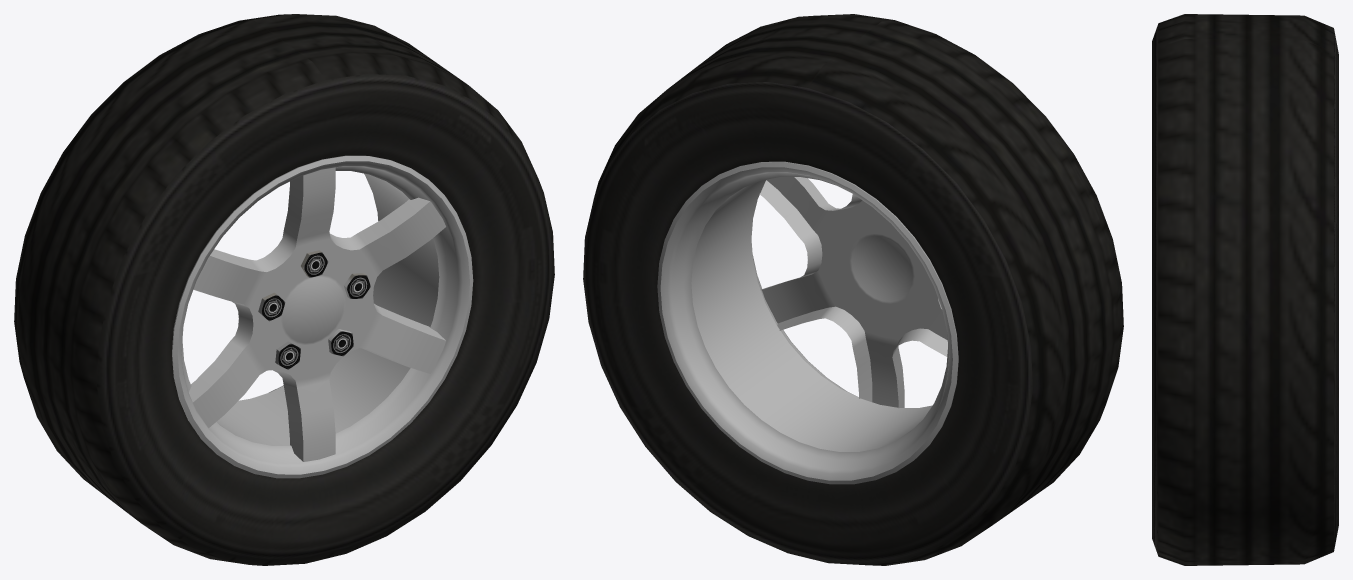
3 renders of one model, left to right at view 1: azimuth 30°, elevation 25°; view 2: azimuth 150°, elevation 25°; view 3: azimuth 270°, elevation 25°, orthographic.
Parts seen in each view (by area): view 1: U843_9A_901C_R_U843_9A_901C_R_2_DM, U843_9A_901C_R_1_DaS_U843_9A_901C_R, U843_9A_901C_R_U843_9A_901C_R_3_D; view 2: U843_9A_901C_R_U843_9A_901C_R_2_DM, U843_9A_901C_R_1_DaS_U843_9A_901C_R; view 3: U843_9A_901C_R_U843_9A_901C_R_2_DM.
Part boxes in pixels (left/top/right/bottom): U843_9A_901C_R_U843_9A_901C_R_2_DM: left=14, top=14, right=554, bottom=565; U843_9A_901C_R_1_DaS_U843_9A_901C_R: left=172, top=155, right=473, bottom=478; U843_9A_901C_R_U843_9A_901C_R_3_D: left=258, top=250, right=370, bottom=369; U843_9A_901C_R_U843_9A_901C_R_2_DM: left=583, top=14, right=1123, bottom=565; U843_9A_901C_R_1_DaS_U843_9A_901C_R: left=657, top=161, right=958, bottom=484; U843_9A_901C_R_U843_9A_901C_R_2_DM: left=1152, top=14, right=1338, bottom=565.
Bounding box in the file's own units: 70.55 × 70.47 × 23.87.
